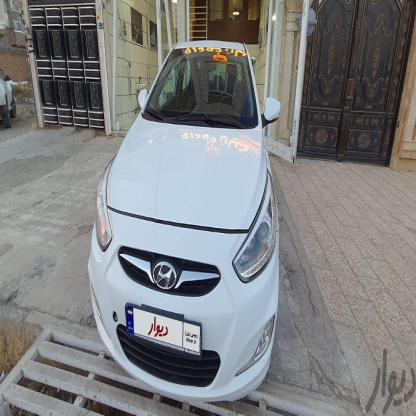Car: (87, 32, 282, 394), (0, 59, 19, 130)
